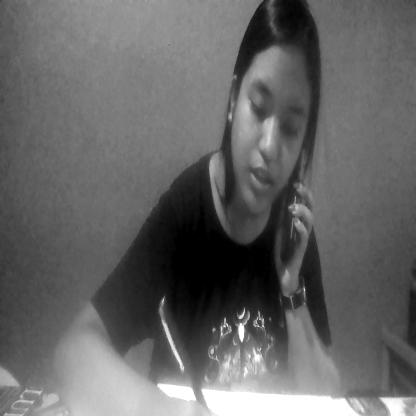Distracted: (233, 0, 314, 217)
